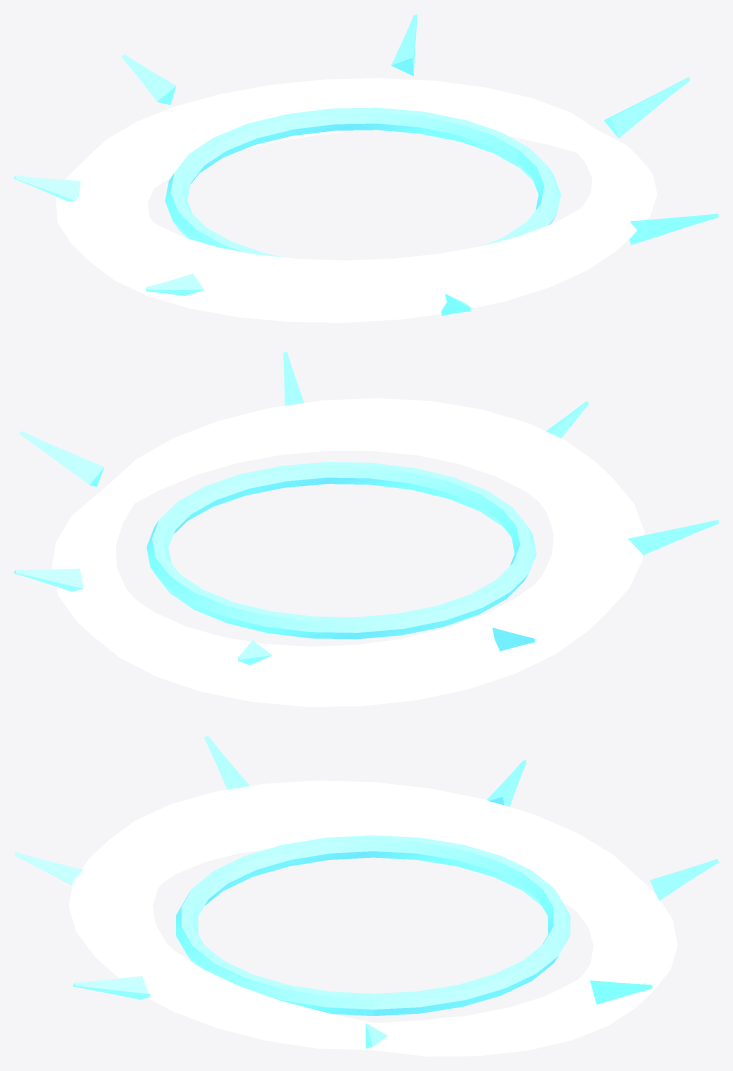
File: fx_spinring.glb
The picture shows the model from 3 angles, top to bottom: view 1: azimuth 30°, elevation 25°; view 2: azimuth 150°, elevation 25°; view 3: azimuth 270°, elevation 25°; orthographic projection.
Visible parts, largest first — view 1: spin-arc-ring; view 2: spin-arc-ring; view 3: spin-arc-ring.
Boxes of the visible parts, x1=… form: spin-arc-ring: x1=14, y1=14, x2=718, y2=322; spin-arc-ring: x1=14, y1=351, x2=718, y2=706; spin-arc-ring: x1=14, y1=735, x2=718, y2=1056.
Size of the model in its own units: 1.16 by 0.147 by 1.13.
